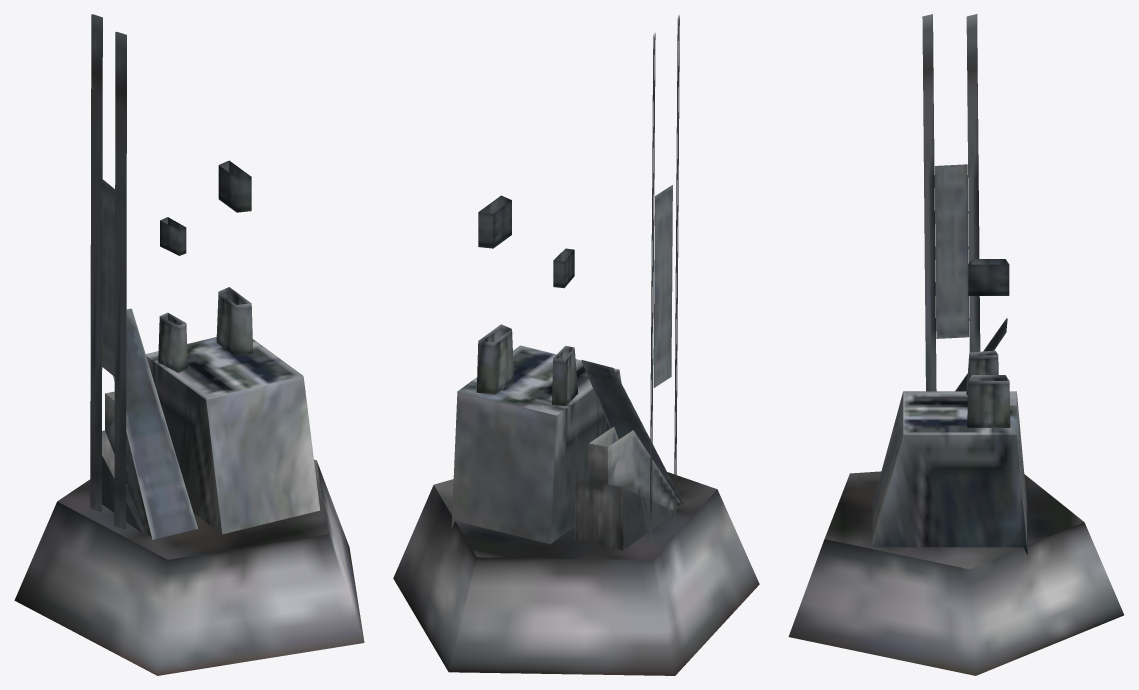
Rendered from spacestation_turret_antenna_l3.fbx.
3 renders of one model, left to right at view 1: azimuth 30°, elevation 25°; view 2: azimuth 150°, elevation 25°; view 3: azimuth 270°, elevation 25°, orthographic. The views are drawn at different scales.
Visible parts, largest first — view 1: mesh_node; view 2: mesh_node; view 3: mesh_node.
Part boxes in pixels (x1,y1,x2,y2): mesh_node: (14,14,364,675); mesh_node: (393,15,759,675); mesh_node: (788,14,1123,675).
Bounding box in the file's own units: 7 × 13 × 7.24.
1 material, 1 textured.
